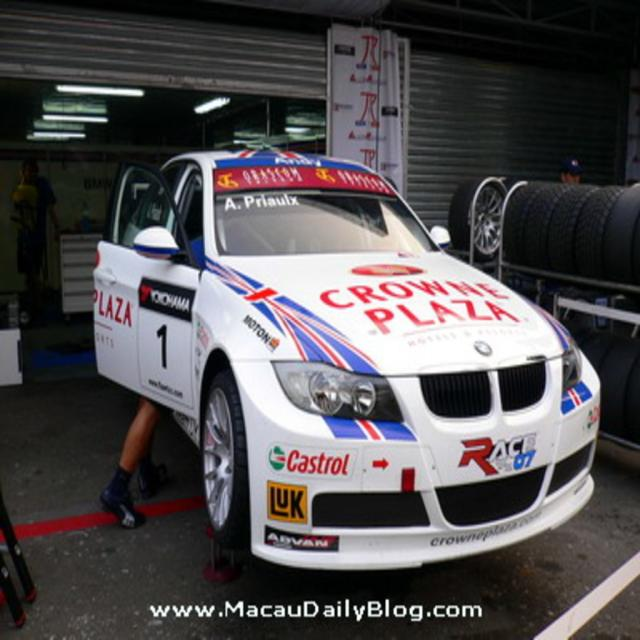car: (83, 116, 633, 581)
